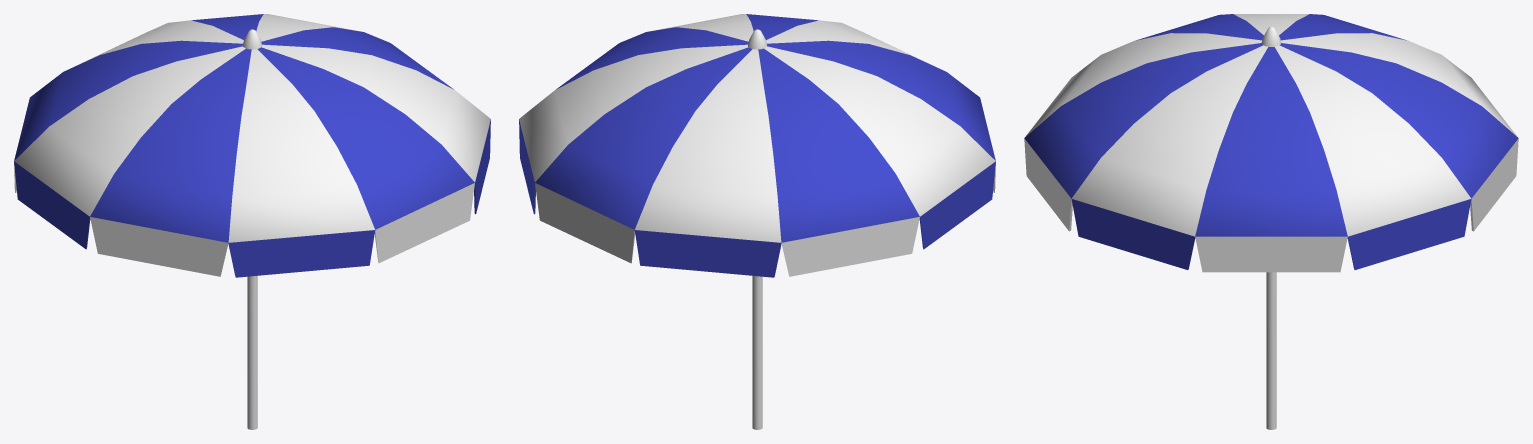
File: Umbrella03.fbx
3 views of the same model, side by side, from view 1: azimuth 30°, elevation 25°; view 2: azimuth 150°, elevation 25°; view 3: azimuth 270°, elevation 25° (orthographic).
Visible parts, largest first — view 1: parasol, Prop; view 2: parasol, Prop; view 3: parasol, Prop.
Part boxes in pixels (x1,y1,x2,y2): parasol: (14, 14, 490, 277); Prop: (247, 276, 257, 429); parasol: (519, 14, 995, 277); Prop: (752, 276, 762, 429); parasol: (1024, 14, 1518, 272); Prop: (1266, 272, 1276, 429).
Bounding box in the file's own units: 307 × 291 × 326.
